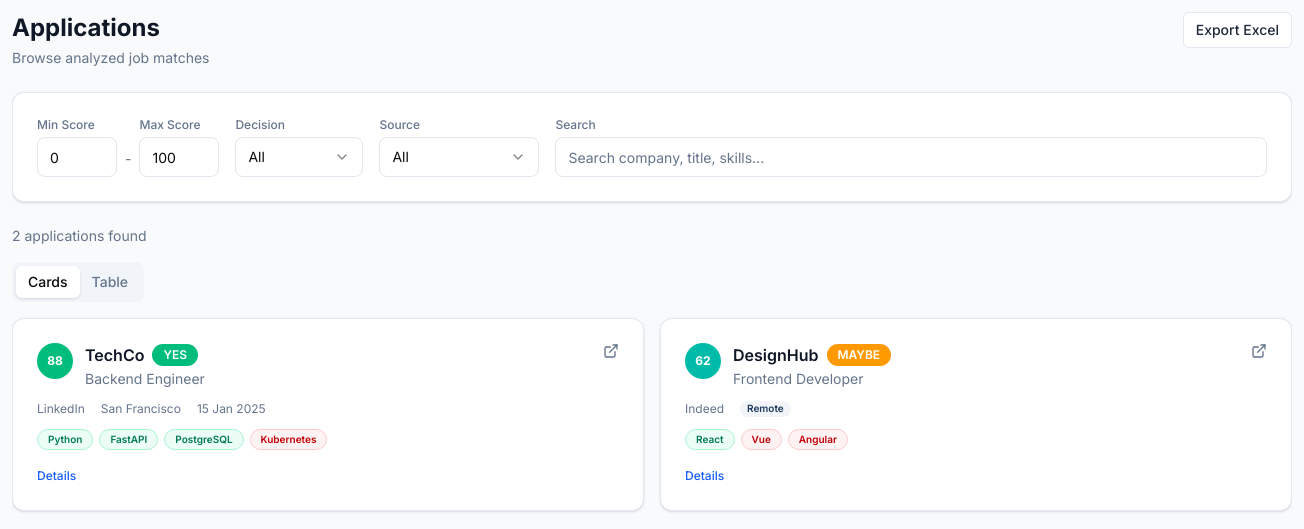
Test: ApplicationsPage › renders table view
Expected: the text "TechCo" is shown, [85,343,144,367]
# Switch to table view
Click the tab "Table". click: click(110, 282)
box: [80,266,140,298]
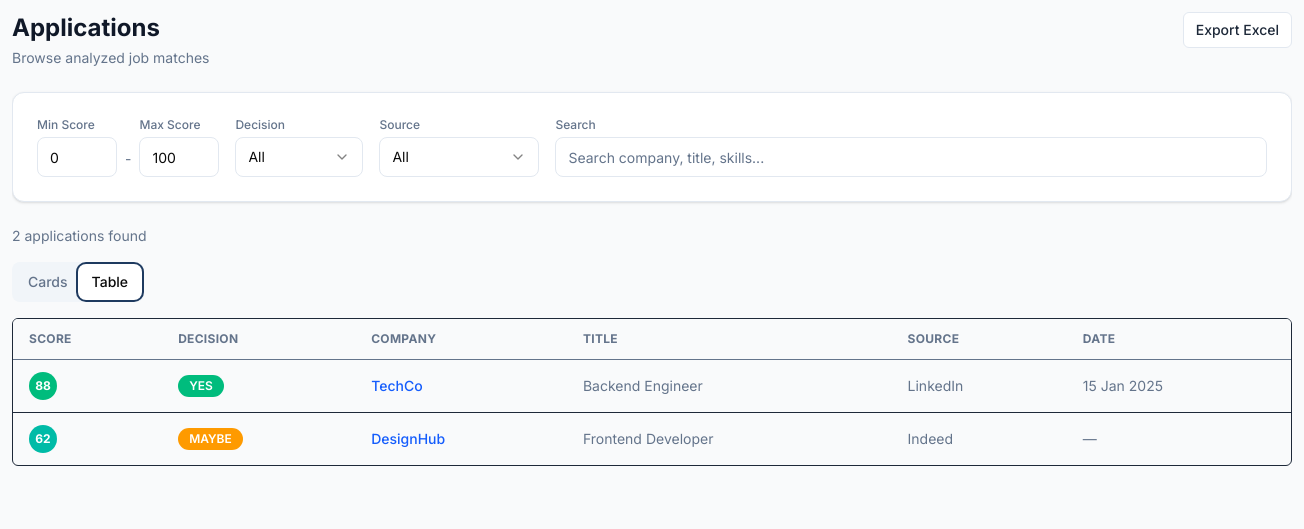
Expected: the label "Min Score" is shown, [37,117,95,132]
Result: the column heading "Company" is shown at [355,319,567,360]
Result: the column heading "Title" is shown at [567,319,892,360]
